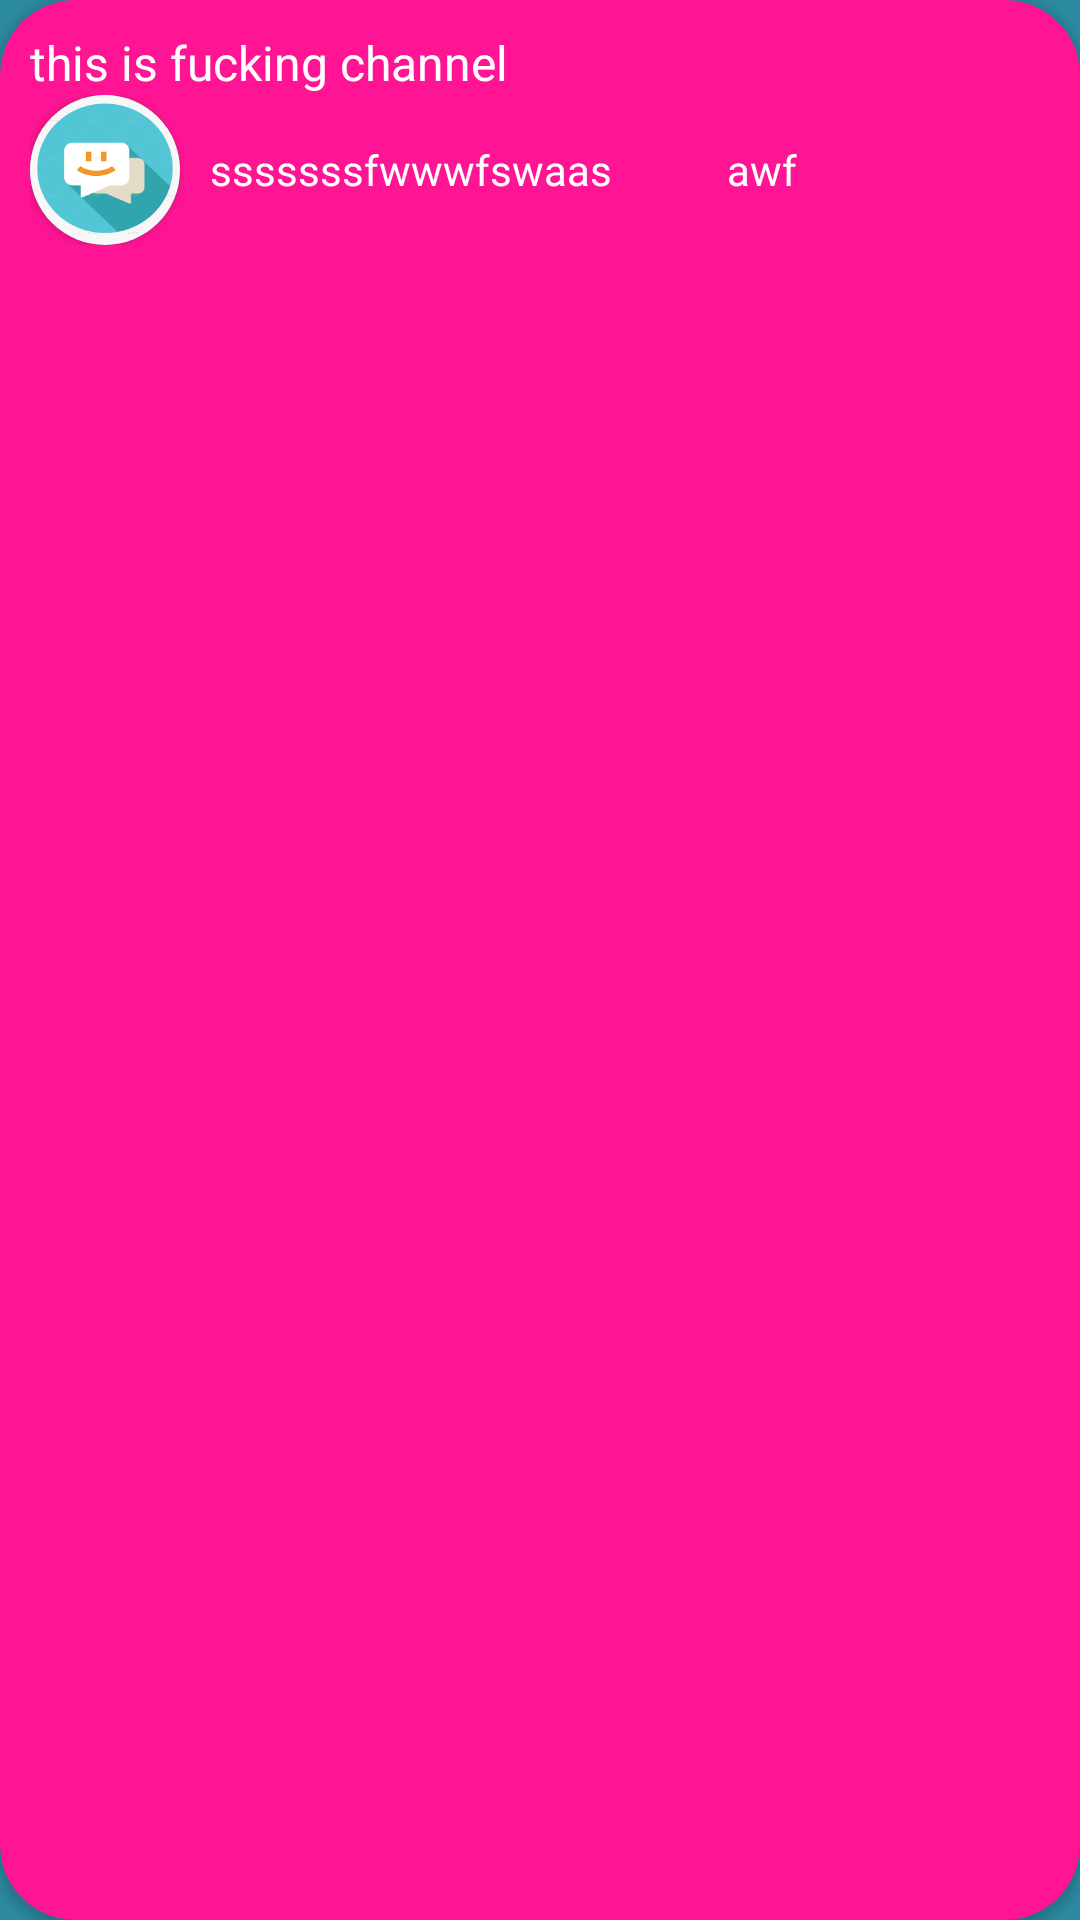

Icons on this 1080x1920 Android screen, each with the point to tap as (x,y):
chat: (105,170)
